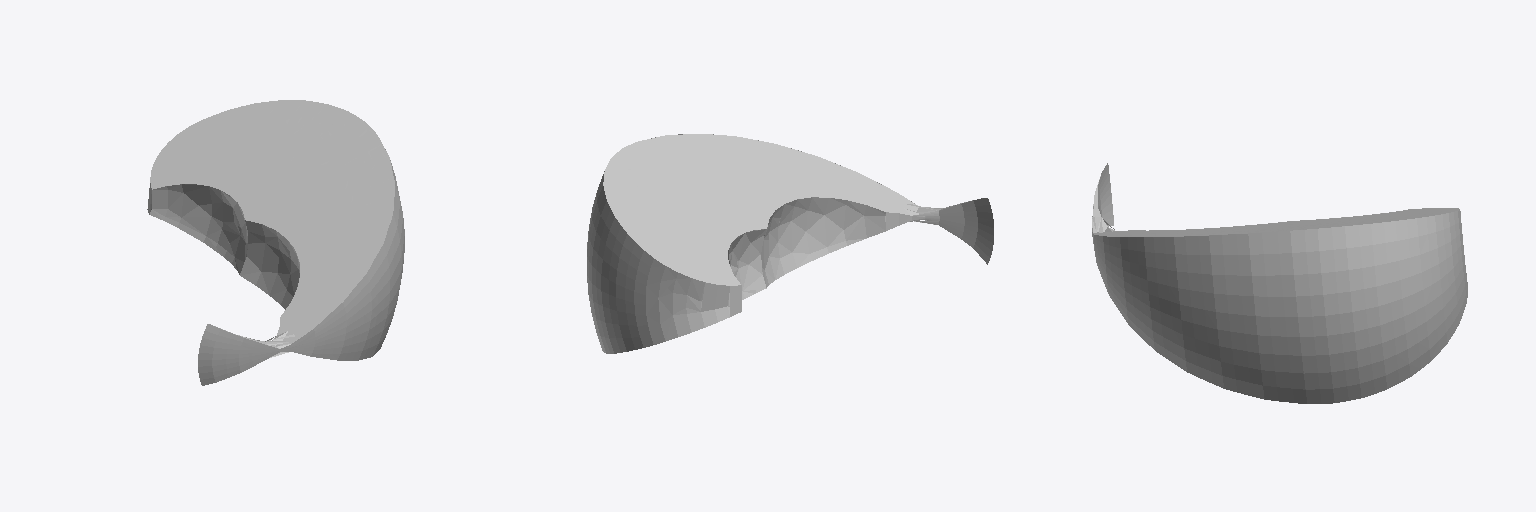
The model's file is pinky_workspace_concave_hull.obj.
3 renders of one model, left to right at view 1: azimuth 30°, elevation 25°; view 2: azimuth 150°, elevation 25°; view 3: azimuth 270°, elevation 25°, orthographic.
Bounding box in the file's own units: 0.1844 × 0.1122 × 0.2116.